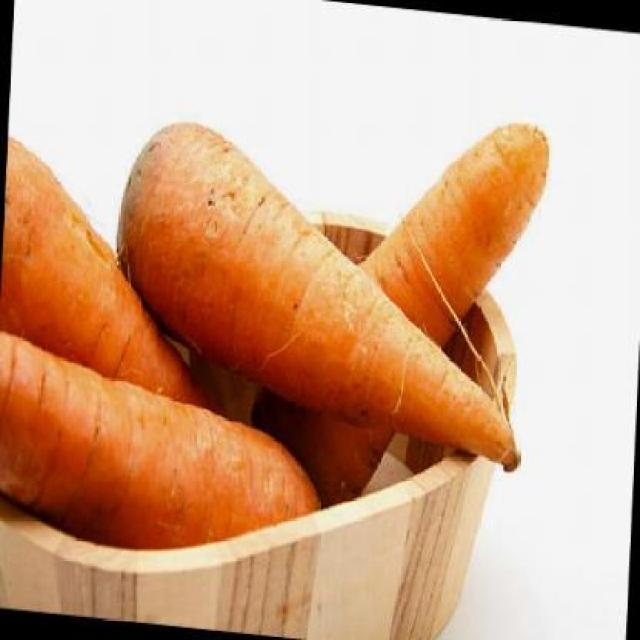carrot: (107, 115, 536, 478), (244, 96, 550, 542), (0, 329, 331, 568), (0, 136, 235, 422)
